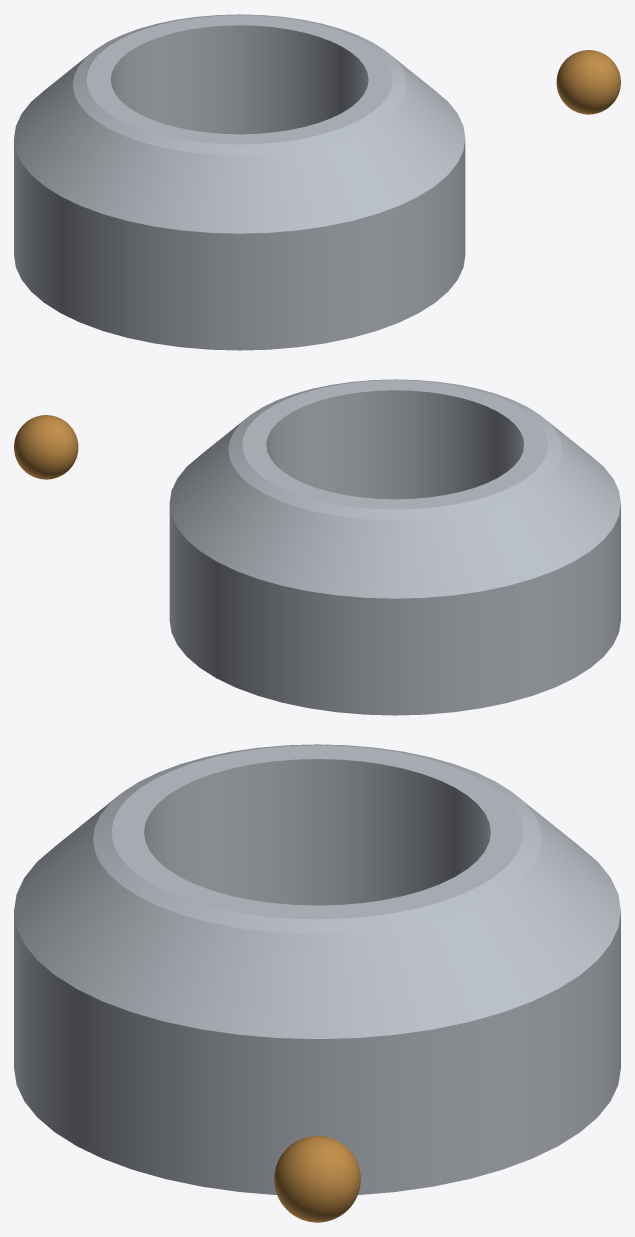
Rendered from moderate-native.glb.
The picture shows the model from 3 angles, top to bottom: view 1: azimuth 30°, elevation 25°; view 2: azimuth 150°, elevation 25°; view 3: azimuth 270°, elevation 25°; orthographic projection. The views are drawn at different scales.
Visible parts, largest first — view 1: bushing, preserved; view 2: bushing, preserved; view 3: bushing, preserved.
Boxes of the visible parts, x1,y1,x2,y2 form: bushing: (14, 14, 465, 350); preserved: (556, 50, 620, 114); bushing: (169, 379, 620, 715); preserved: (14, 415, 78, 479); bushing: (14, 744, 620, 1194); preserved: (274, 1136, 360, 1222).
Size of the model in its own units: 0.041 by 0.012 by 0.028.
